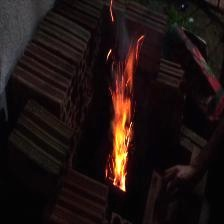fire: (85, 27, 148, 205)
